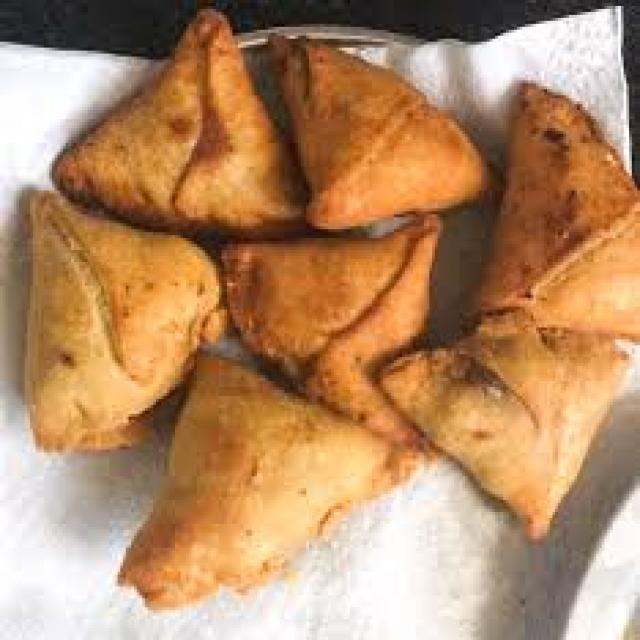SAMOSA: (120, 354, 418, 604), (52, 9, 304, 232), (380, 310, 626, 533), (25, 191, 224, 449), (227, 214, 435, 438), (473, 83, 637, 336), (274, 36, 484, 226)
